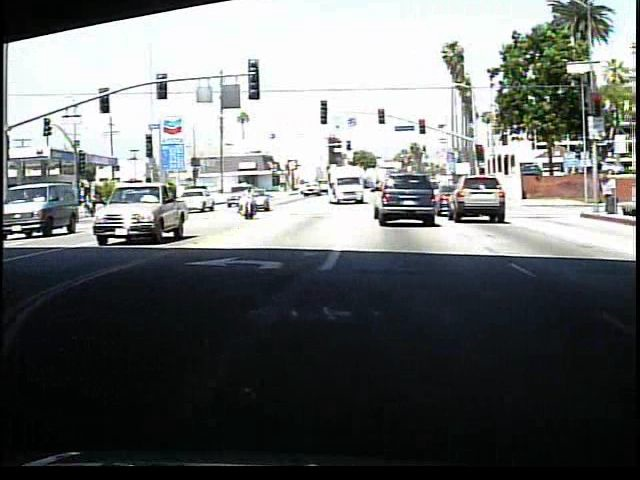person: (239, 185, 257, 221)
